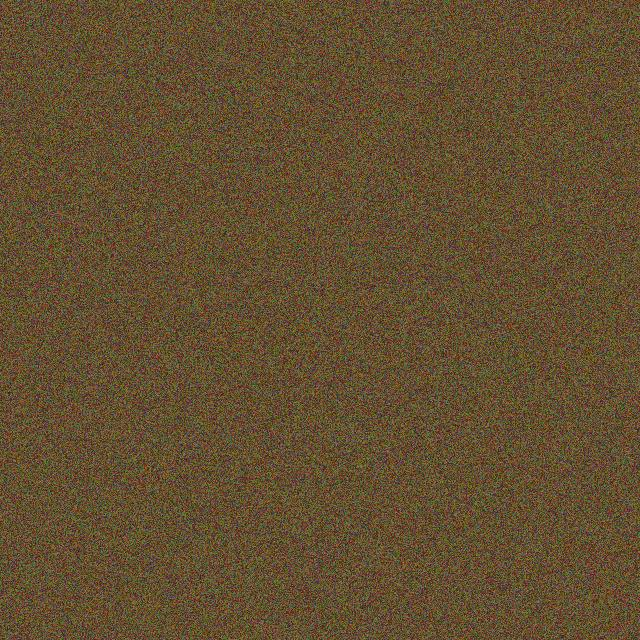human: (132, 100, 186, 167)
